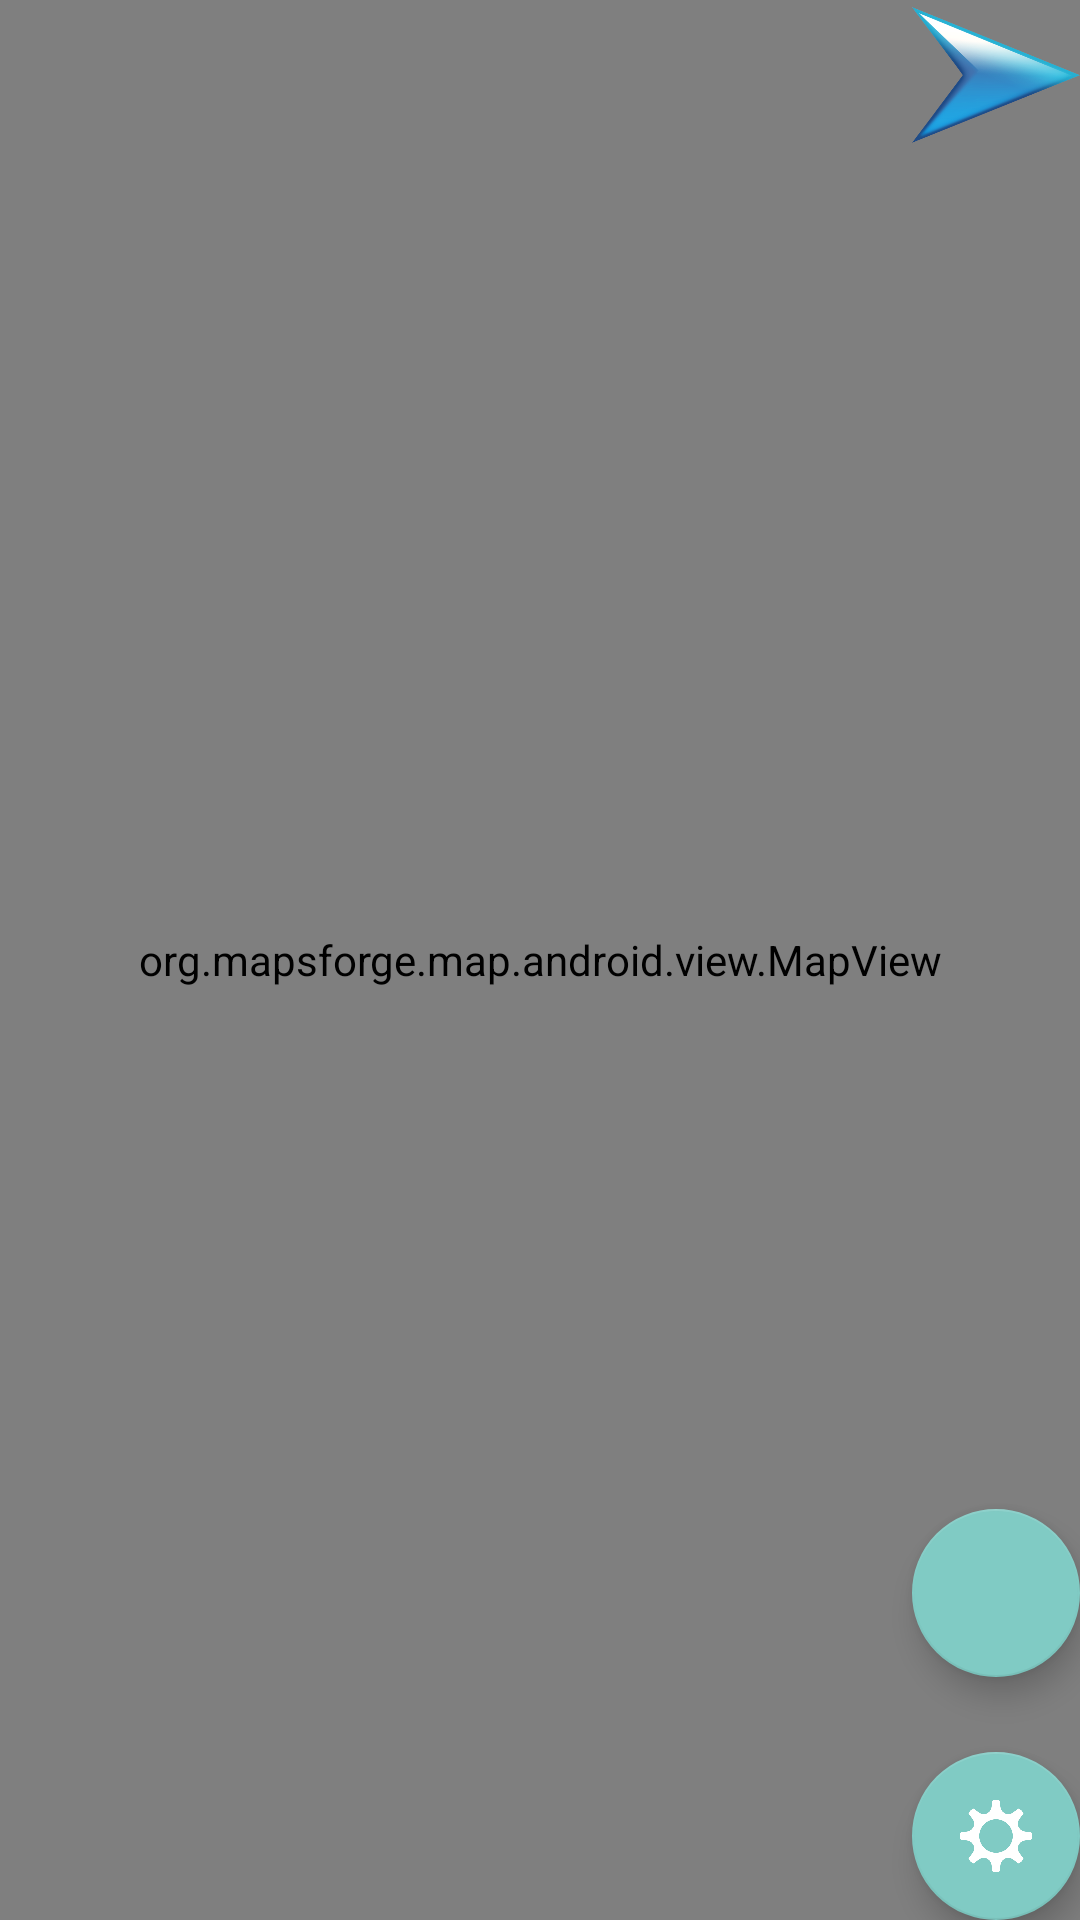

Locate icon controls on the screen. Image size 1080 × 1920, boxes as (x1, y1, x2, y2).
arrow: (912, 7, 1080, 143)
settings: (912, 1752, 1080, 1920)
